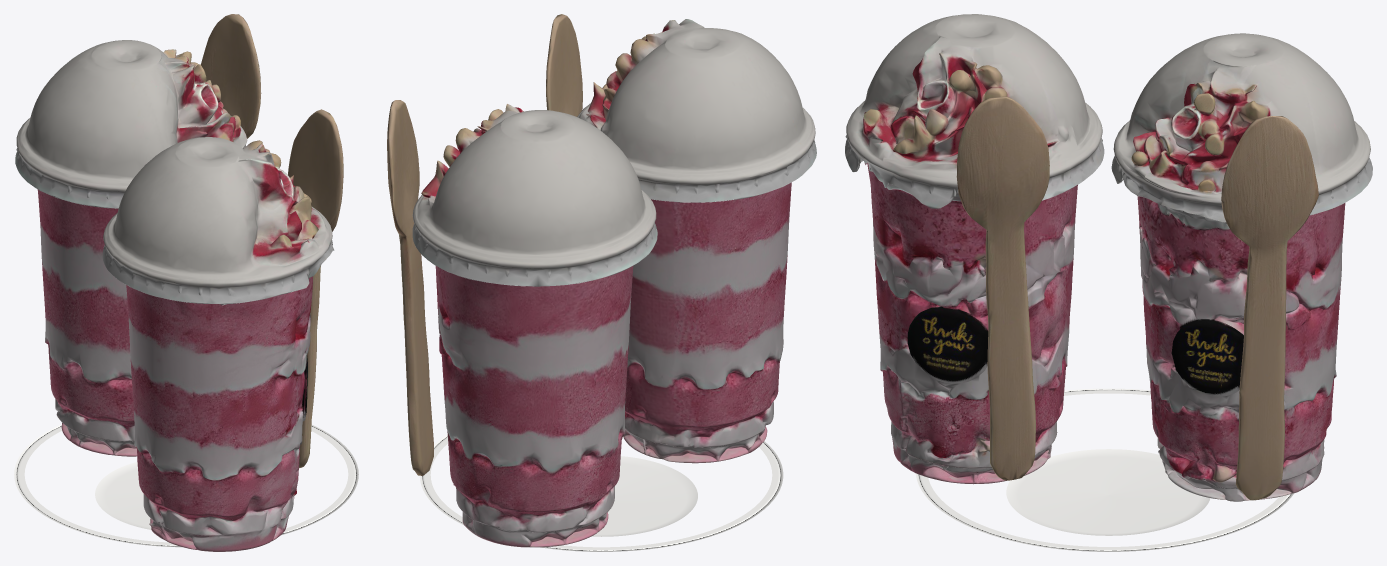
File: realistic-layered-dessert-cup-plated.glb
The picture shows the model from 3 angles, left to right: view 1: azimuth 30°, elevation 25°; view 2: azimuth 150°, elevation 25°; view 3: azimuth 270°, elevation 25°; orthographic projection. The views are drawn at different scales.
Visible parts, largest first — view 1: tripo_node_f1e57c66-4f80-4871-a9a0-5796370565f0, porcelain-plate; view 2: tripo_node_f1e57c66-4f80-4871-a9a0-5796370565f0, porcelain-plate; view 3: tripo_node_f1e57c66-4f80-4871-a9a0-5796370565f0, porcelain-plate.
Boxes of the visible parts, x1,y1,x2,y2 form: tripo_node_f1e57c66-4f80-4871-a9a0-5796370565f0: [15, 14, 343, 551]; porcelain-plate: [14, 424, 358, 547]; tripo_node_f1e57c66-4f80-4871-a9a0-5796370565f0: [387, 14, 816, 547]; porcelain-plate: [419, 434, 783, 551]; tripo_node_f1e57c66-4f80-4871-a9a0-5796370565f0: [845, 14, 1372, 501]; porcelain-plate: [915, 388, 1293, 551].
Bounding box in the file's own units: 0.4018 × 0.5142 × 0.5483.
2 materials, 1 textured.
